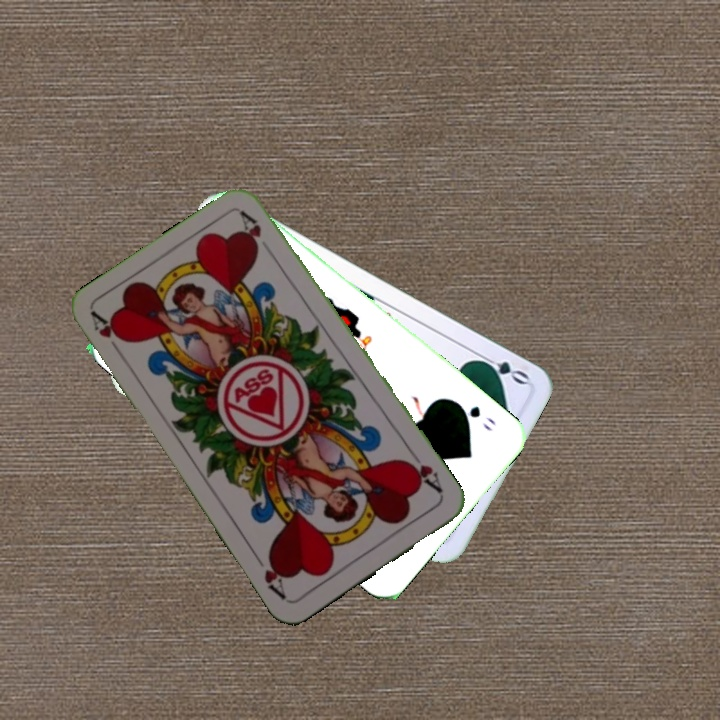GO: (473, 350, 531, 388), (451, 398, 498, 434)
HA: (400, 446, 446, 498), (87, 308, 130, 362)
